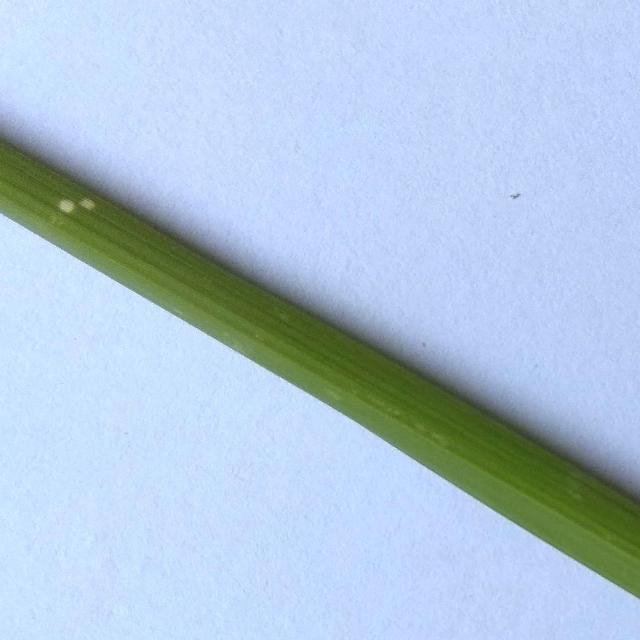Blast: (54, 191, 94, 217)
